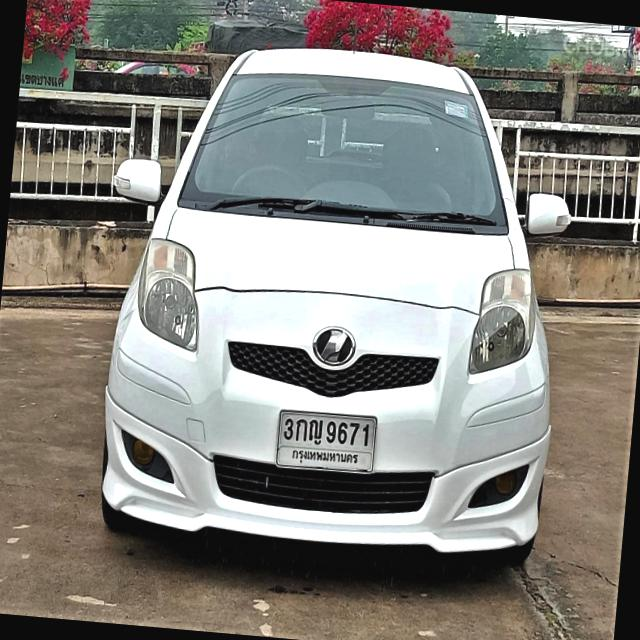license_plate: (271, 406, 380, 477)
